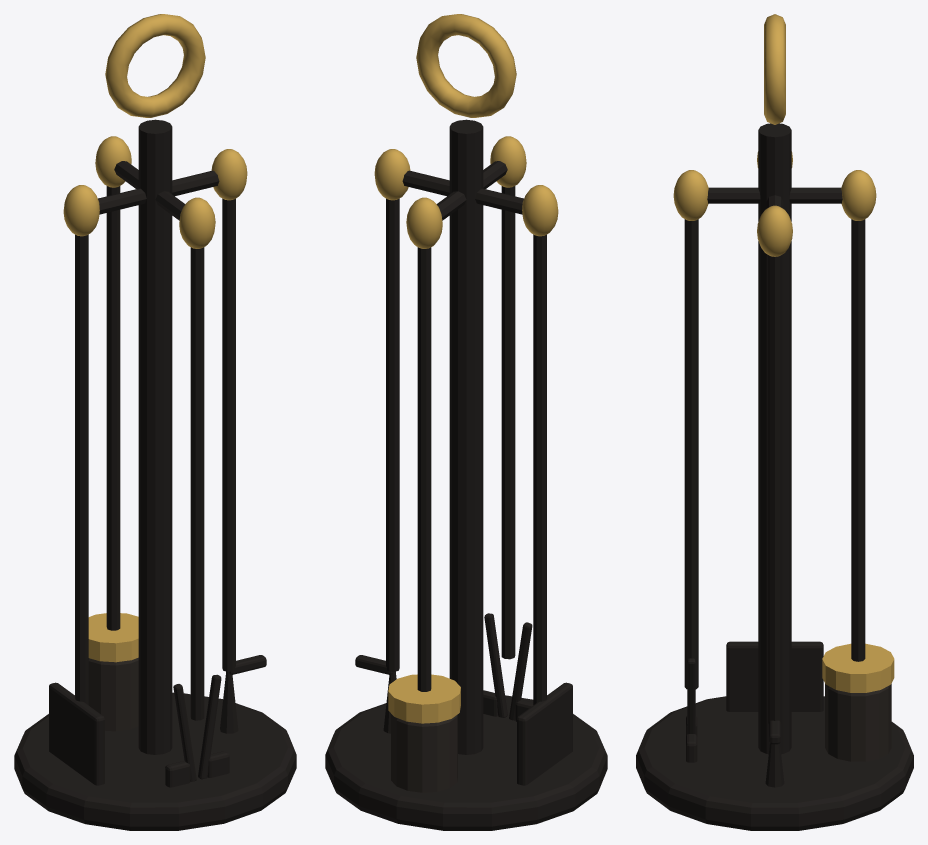
File: hh_cat_fireplace_set.glb
3 views of the same model, side by side, from view 1: azimuth 30°, elevation 25°; view 2: azimuth 150°, elevation 25°; view 3: azimuth 270°, elevation 25° (orthographic).
Visible parts, largest first — view 1: post, base, tool_shaft.003, tool_shaft, tool_shaft.001, tool_shaft.002, handle_ring, shovel_blade, brush_bristles, brush_collar, hook_bar, tool_handle.001 (+8 smaller); view 2: post, base, tool_shaft.003, tool_shaft.002, tool_shaft, tool_shaft.001, handle_ring, brush_bristles, shovel_blade, brush_collar, hook_bar, tool_handle.001 (+6 smaller); view 3: base, post, tool_shaft.003, tool_shaft.002, tool_shaft, shovel_blade, brush_bristles, brush_collar, handle_ring, hook_bar.001, tool_handle, tool_handle.002 (+3 smaller).
Boxes of the visible parts, x1=… form: post: x1=138, y1=119, x2=172, y2=754; base: x1=14, y1=692, x2=296, y2=830; tool_shaft.003: x1=190, y1=247, x2=204, y2=720; tool_shaft: x1=222, y1=198, x2=235, y2=671; tool_shaft.001: x1=75, y1=234, x2=88, y2=704; tool_shaft.002: x1=106, y1=186, x2=120, y2=630; handle_ring: x1=105, y1=14, x2=205, y2=117; shovel_blade: x1=49, y1=682, x2=104, y2=785; brush_bristles: x1=88, y1=657, x2=138, y2=731; brush_collar: x1=88, y1=613, x2=138, y2=662; hook_bar: x1=98, y1=170, x2=219, y2=214; tool_handle.001: x1=63, y1=185, x2=99, y2=236; post: x1=449, y1=119, x2=483, y2=754; base: x1=325, y1=695, x2=607, y2=830; tool_shaft.003: x1=501, y1=186, x2=515, y2=659; tool_shaft.002: x1=417, y1=247, x2=431, y2=691; tool_shaft: x1=386, y1=198, x2=399, y2=671; tool_shaft.001: x1=533, y1=234, x2=546, y2=704; handle_ring: x1=416, y1=14, x2=516, y2=117; brush_bristles: x1=391, y1=714, x2=457, y2=792; shovel_blade: x1=517, y1=682, x2=572, y2=785; brush_collar: x1=388, y1=674, x2=460, y2=723; hook_bar: x1=402, y1=170, x2=523, y2=214; tool_handle.001: x1=522, y1=185, x2=558, y2=236; base: x1=636, y1=696, x2=913, y2=830; post: x1=758, y1=123, x2=791, y2=754; tool_shaft.003: x1=684, y1=219, x2=698, y2=689; tool_shaft.002: x1=851, y1=219, x2=865, y2=661; tool_shaft: x1=768, y1=255, x2=781, y2=723; shovel_blade: x1=726, y1=641, x2=823, y2=711; brush_bristles: x1=825, y1=683, x2=891, y2=761; brush_collar: x1=822, y1=643, x2=894, y2=692; handle_ring: x1=764, y1=14, x2=785, y2=124; hook_bar.001: x1=707, y1=187, x2=842, y2=203; tool_handle: x1=757, y1=205, x2=792, y2=256; tool_handle.002: x1=841, y1=170, x2=876, y2=220.
Size of the model in its own units: 0.2 by 0.6 by 0.2.
